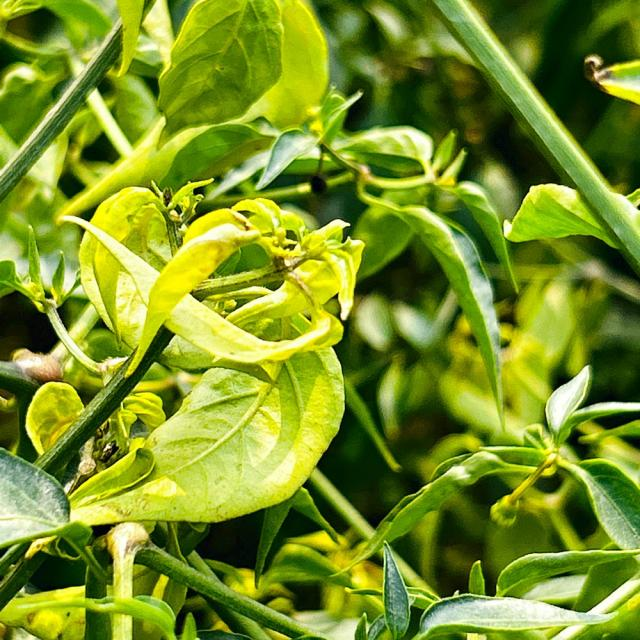Chilli_Leaf_Curl: (1, 0, 638, 638), (13, 180, 365, 541), (329, 363, 638, 581), (68, 191, 366, 380), (67, 343, 346, 525), (354, 184, 507, 431), (154, 0, 330, 145), (501, 180, 638, 270)
